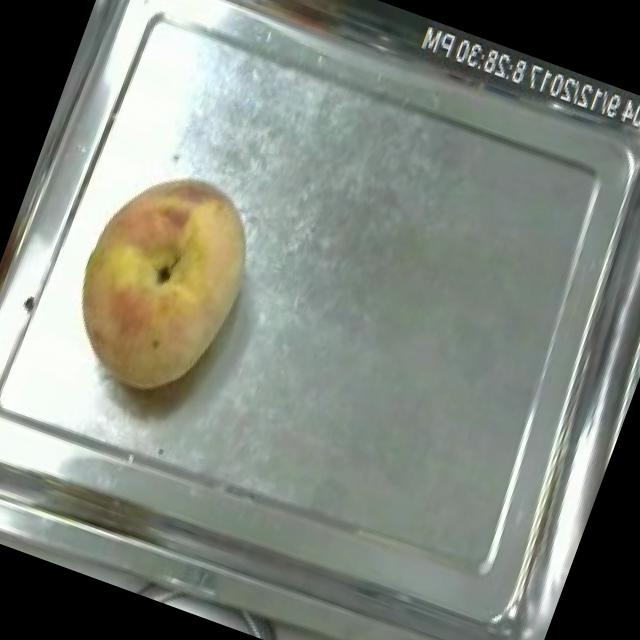Fruit: (42, 144, 282, 418)
